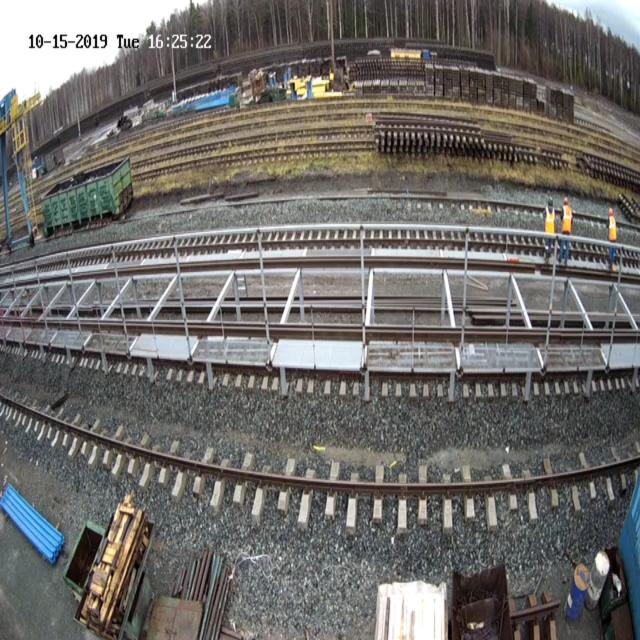Helmet: (548, 196, 553, 205), (608, 208, 614, 215), (564, 197, 568, 204)
Person: (559, 196, 573, 264), (542, 196, 556, 263), (607, 207, 617, 270)
